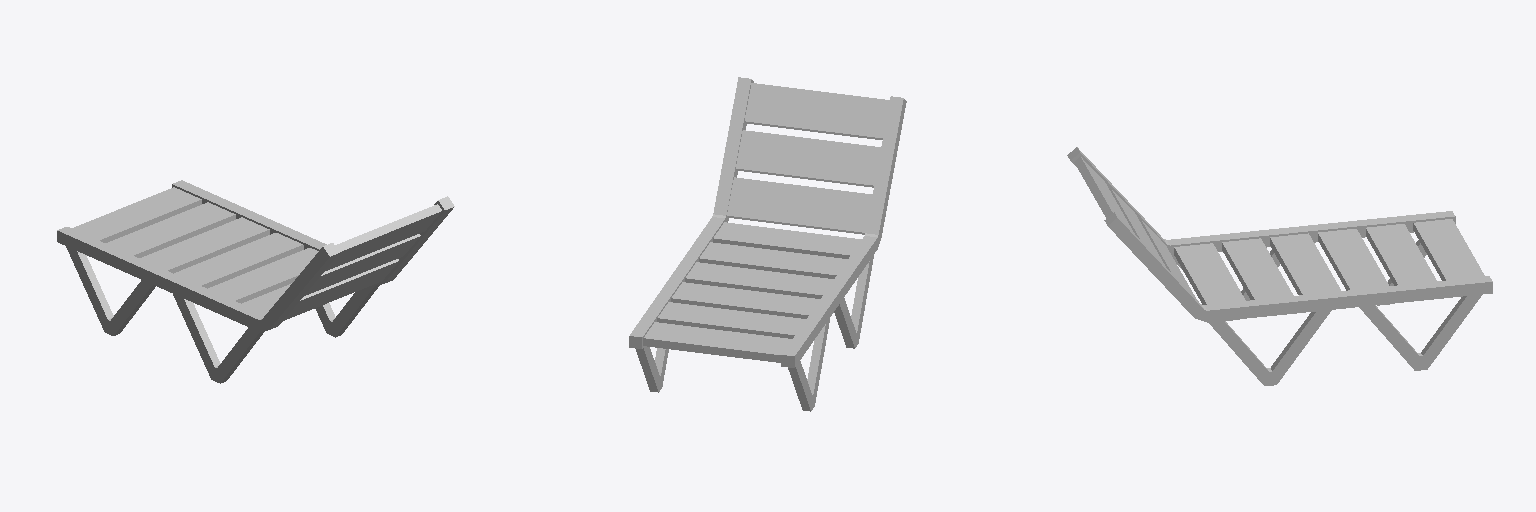
Rendered from chair.obj.
3 views of the same model, side by side, from view 1: azimuth 30°, elevation 25°; view 2: azimuth 150°, elevation 25°; view 3: azimuth 270°, elevation 25° (orthographic).
Parts seen in each view (by area): view 1: chair_SwimmingPool.023; view 2: chair_SwimmingPool.023; view 3: chair_SwimmingPool.023.
Boxes of the visible parts, x1=… form: chair_SwimmingPool.023: x1=57, y1=180, x2=454, y2=383; chair_SwimmingPool.023: x1=629, y1=77, x2=906, y2=411; chair_SwimmingPool.023: x1=1067, y1=147, x2=1492, y2=385.
Size of the model in its own units: 2.78 by 2.17 by 4.54.